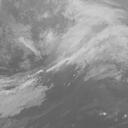cyclone: (32, 33, 98, 92)
